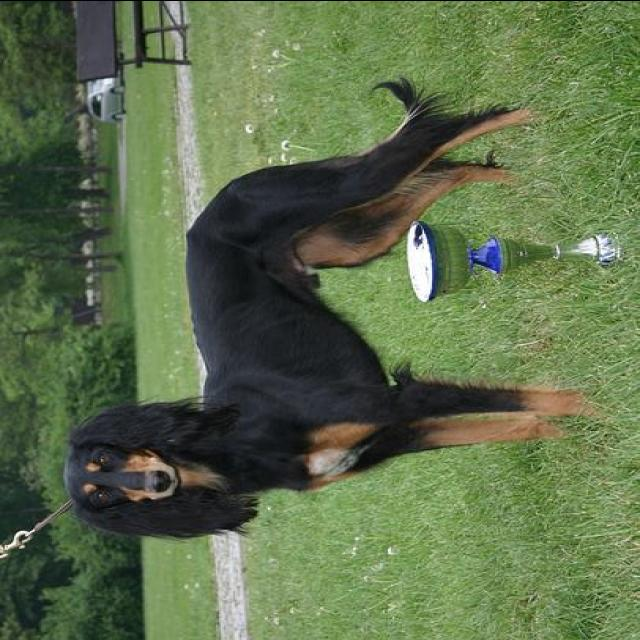saluki: (63, 73, 610, 541)
